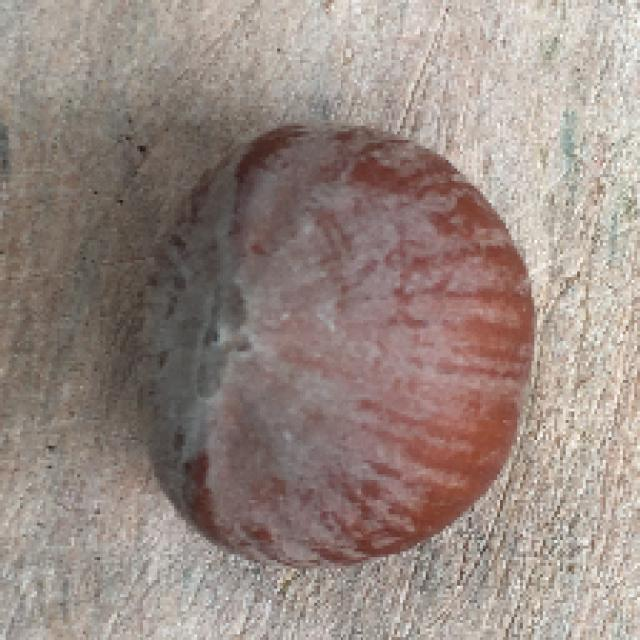qualityHazelnut: (137, 114, 536, 573)
